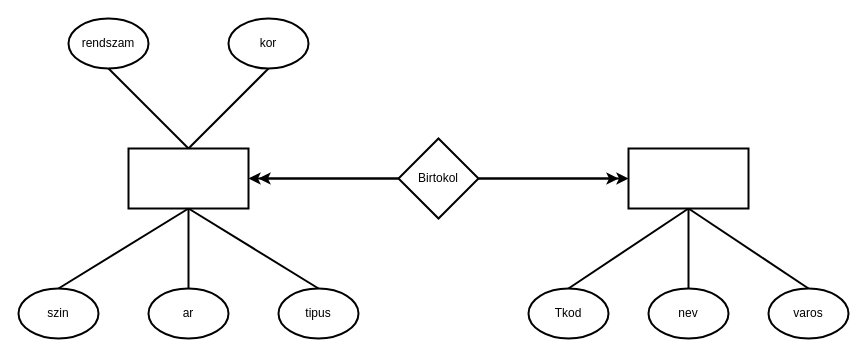
Some shapes in this 866 by 356 pixel diagram are drawn without their labels. The shapes that lost their labels are listed below. From the top down, each one's centre as x and y in pixels, then its label:
At [188,178]: "Auto".
At [688,178]: "Tulajdonos".
